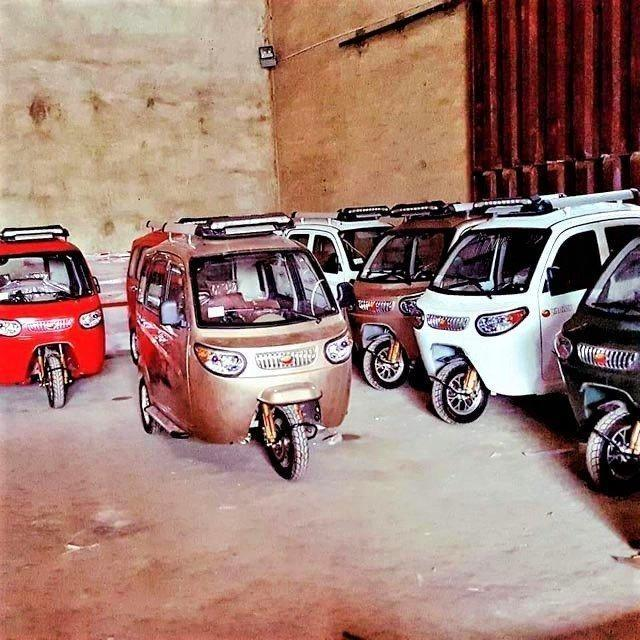keke: (120, 225, 351, 493), (479, 195, 638, 502)
